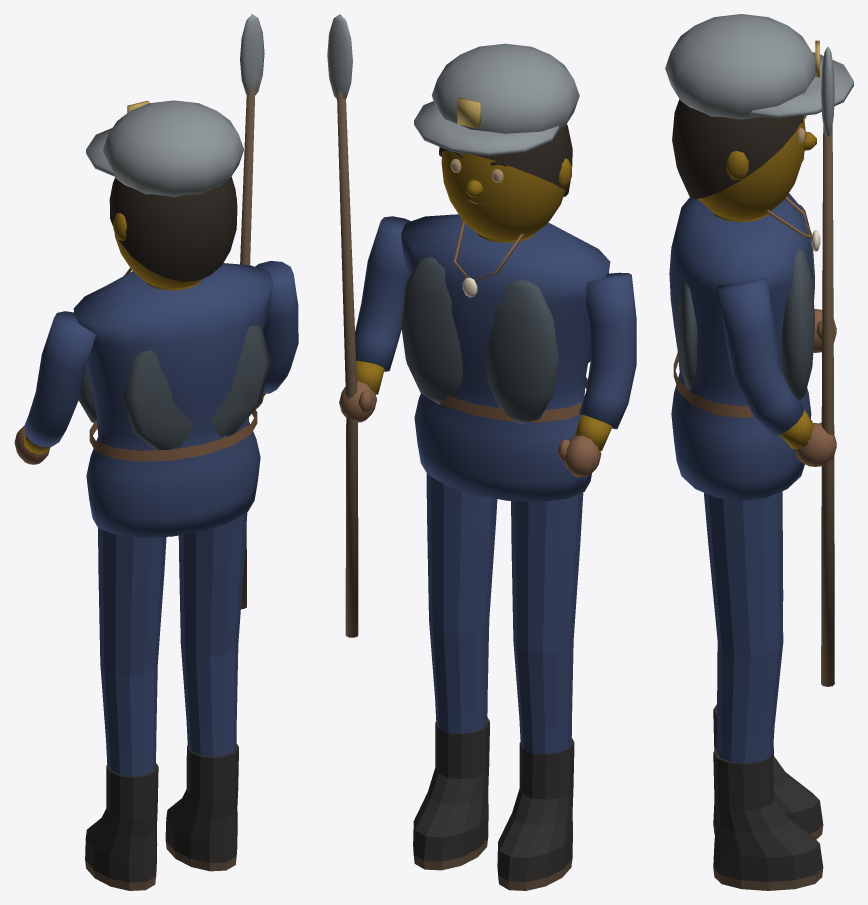
The model's file is SM_NPC_TIBURON.glb.
3 renders of one model, left to right at view 1: azimuth 30°, elevation 25°; view 2: azimuth 150°, elevation 25°; view 3: azimuth 270°, elevation 25°, orthographic. The views are drawn at different scales.
Parts seen in each view (by area): view 1: SM_NPC_TIBURON_BODY, SM_NPC_TIBURON_LEG_L, SM_NPC_TIBURON_HAIR, SM_NPC_TIBURON_LEG_R, SM_NPC_TIBURON_ARM_R, SM_NPC_TIBURON_ARM_L, SM_NPC_TIBURON_HEAD; view 2: SM_NPC_TIBURON_BODY, SM_NPC_TIBURON_LEG_L, SM_NPC_TIBURON_LEG_R, SM_NPC_TIBURON_HAIR, SM_NPC_TIBURON_ARM_R, SM_NPC_TIBURON_ARM_L, SM_NPC_TIBURON_HEAD; view 3: SM_NPC_TIBURON_BODY, SM_NPC_TIBURON_LEG_R, SM_NPC_TIBURON_HAIR, SM_NPC_TIBURON_ARM_R, SM_NPC_TIBURON_HEAD, SM_NPC_TIBURON_LEG_L, SM_NPC_TIBURON_ARM_L.
Boxes of the visible parts, x1,y1,x2,y2 form: SM_NPC_TIBURON_BODY: (73,263,273,537); SM_NPC_TIBURON_LEG_L: (85,528,166,890); SM_NPC_TIBURON_HAIR: (86,100,243,281); SM_NPC_TIBURON_LEG_R: (165,512,247,871); SM_NPC_TIBURON_ARM_R: (240,14,298,609); SM_NPC_TIBURON_ARM_L: (14,311,95,464); SM_NPC_TIBURON_HEAD: (113,198,236,288); SM_NPC_TIBURON_BODY: (400,214,610,501); SM_NPC_TIBURON_LEG_L: (497,492,583,890); SM_NPC_TIBURON_LEG_R: (413,473,497,870); SM_NPC_TIBURON_HAIR: (414,43,579,196); SM_NPC_TIBURON_ARM_R: (327,14,410,637); SM_NPC_TIBURON_ARM_L: (558,272,636,477); SM_NPC_TIBURON_HEAD: (441,151,571,240); SM_NPC_TIBURON_BODY: (669,193,820,500); SM_NPC_TIBURON_LEG_R: (704,491,823,890); SM_NPC_TIBURON_HAIR: (665,14,853,198); SM_NPC_TIBURON_ARM_R: (716,46,836,686); SM_NPC_TIBURON_HEAD: (698,117,816,220); SM_NPC_TIBURON_LEG_L: (713,491,823,839); SM_NPC_TIBURON_ARM_L: (813,309,836,352).
Size of the model in its own units: 0.7035 by 2.07 by 0.4062.
